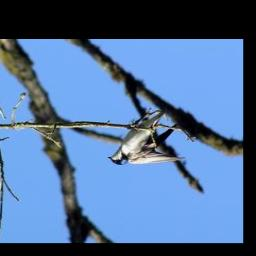Swallow: (107, 107, 187, 167)
